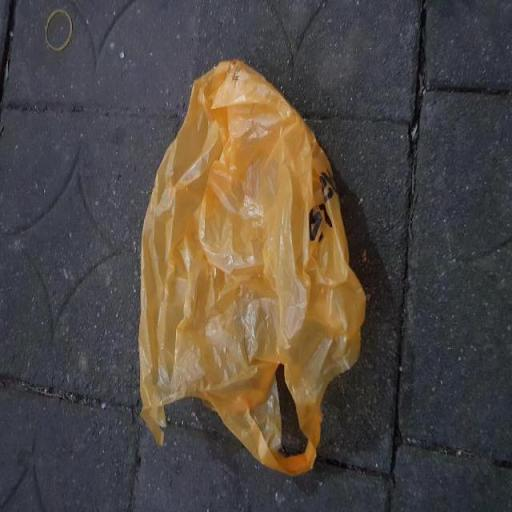plastic-bag: (136, 57, 370, 480)
